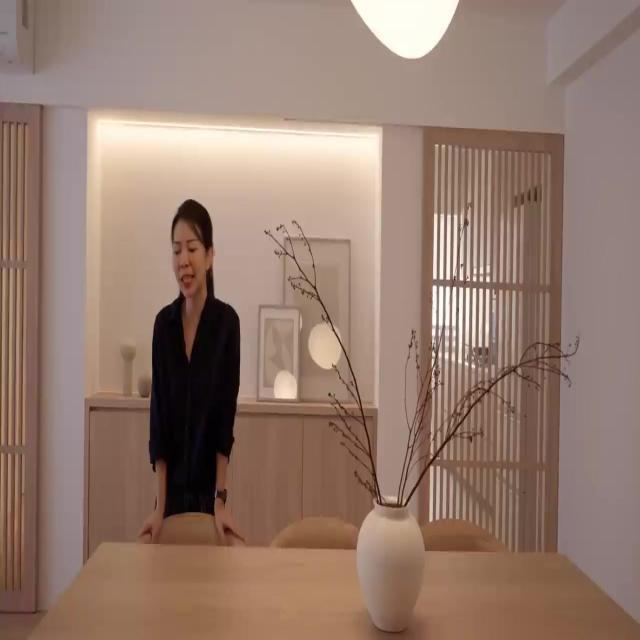door: (421, 126, 557, 554)
obstacle: (26, 540, 640, 638)
person: (137, 198, 246, 545)
